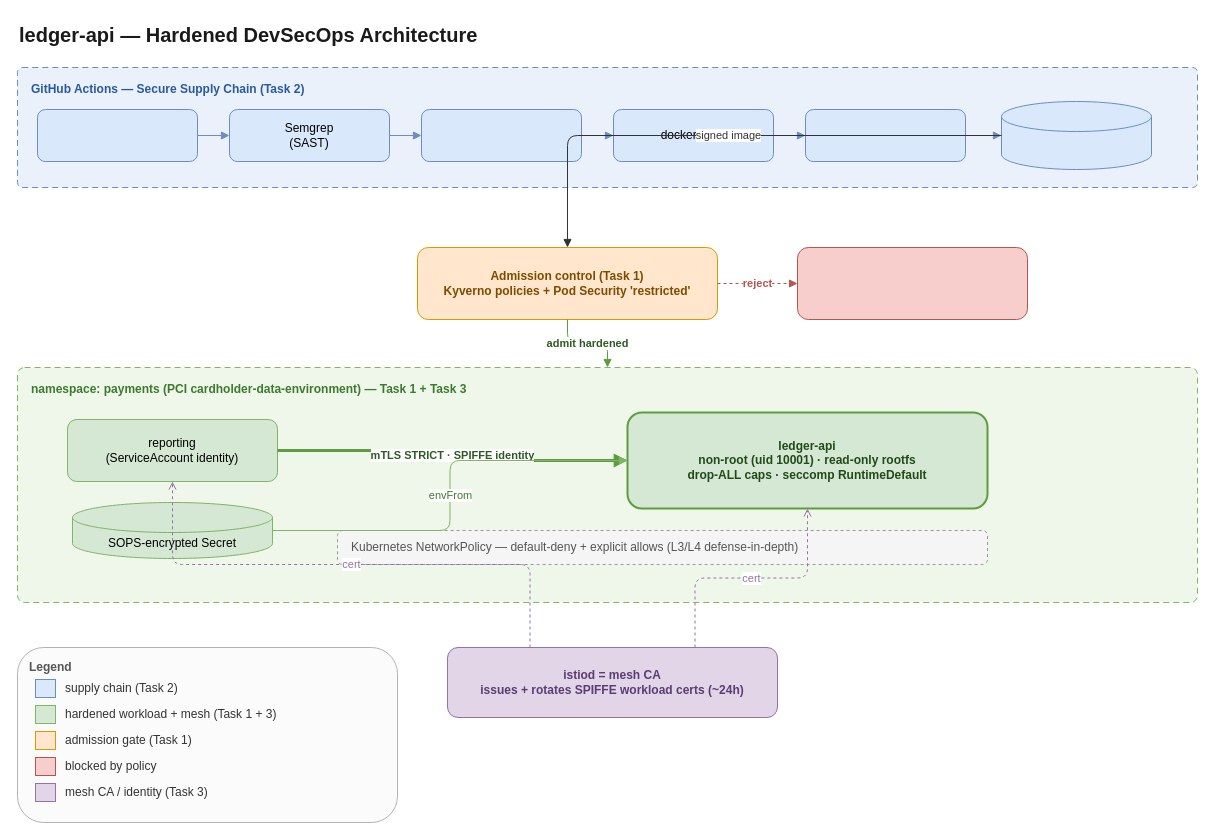
Some shapes in this 1215 by 840 pixel diagram are drawn without their labels. Here are the shapes that lost their labels. From the top down, the centre of each, then its label:
the point at 117,135: gitleaks (secrets)
the point at 501,135: Trivy (deps + image)
the point at 885,135: Cosign sign + SLSA + SBOM
the point at 1076,135: GHCR (registry)
the point at 912,283: BLOCKED runs as root / :latest / unsigned
